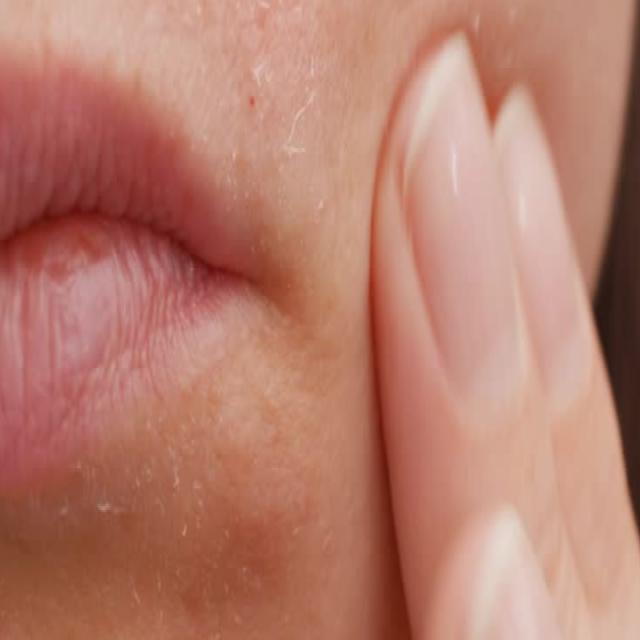flakiness: (253, 11, 321, 192)
